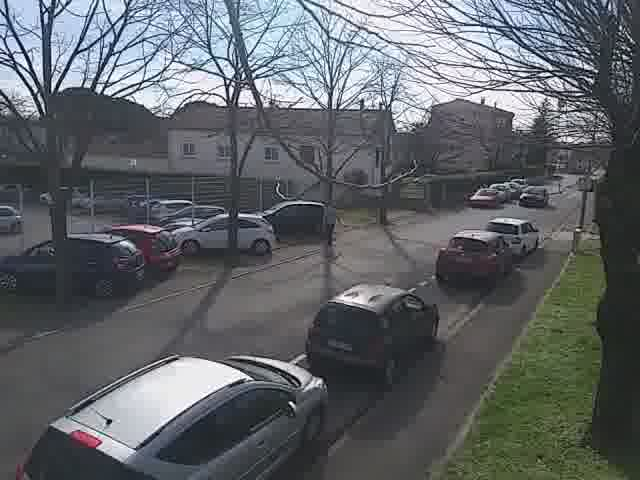persona: (319, 195, 341, 253)
